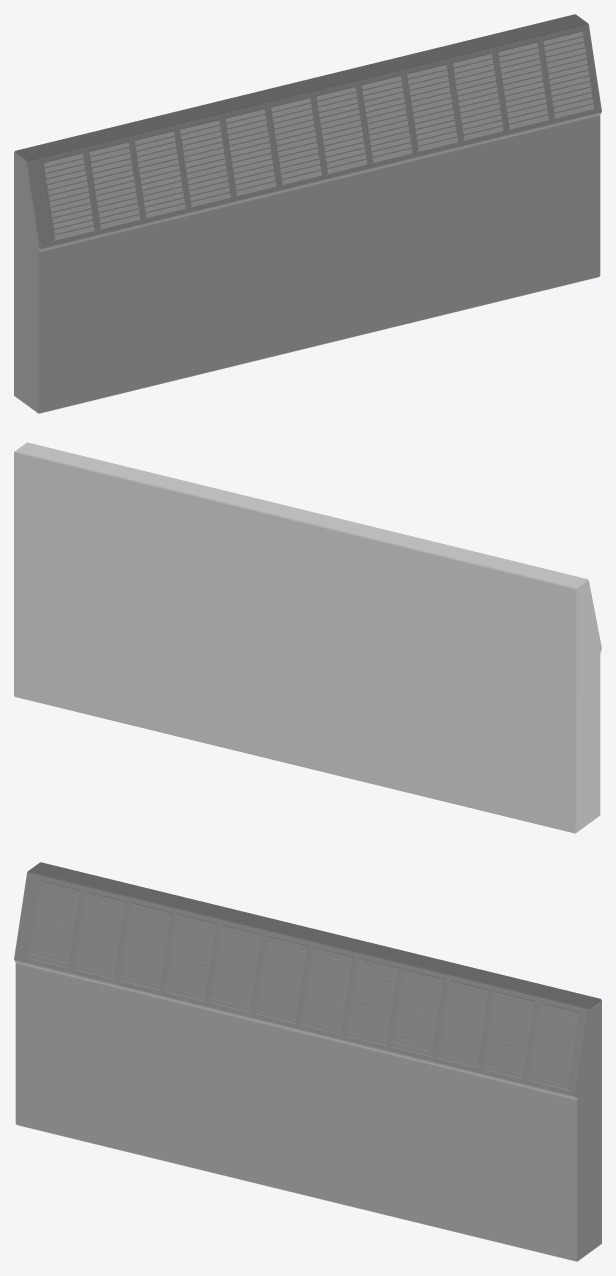
File: AirConditioner_eec25707.obj
The picture shows the model from 3 angles, top to bottom: view 1: azimuth 30°, elevation 25°; view 2: azimuth 150°, elevation 25°; view 3: azimuth 330°, elevation 25°; orthographic projection.
Parts seen in each view (by area): view 1: AirConditioner_eec25707; view 2: AirConditioner_eec25707; view 3: AirConditioner_eec25707.
Boxes of the visible parts, x1,y1,x2,y2 form: AirConditioner_eec25707: (14, 14, 601, 413); AirConditioner_eec25707: (14, 442, 601, 833); AirConditioner_eec25707: (14, 862, 601, 1261).
Bounding box in the file's own units: 1.26 × 0.5276 × 0.104.
